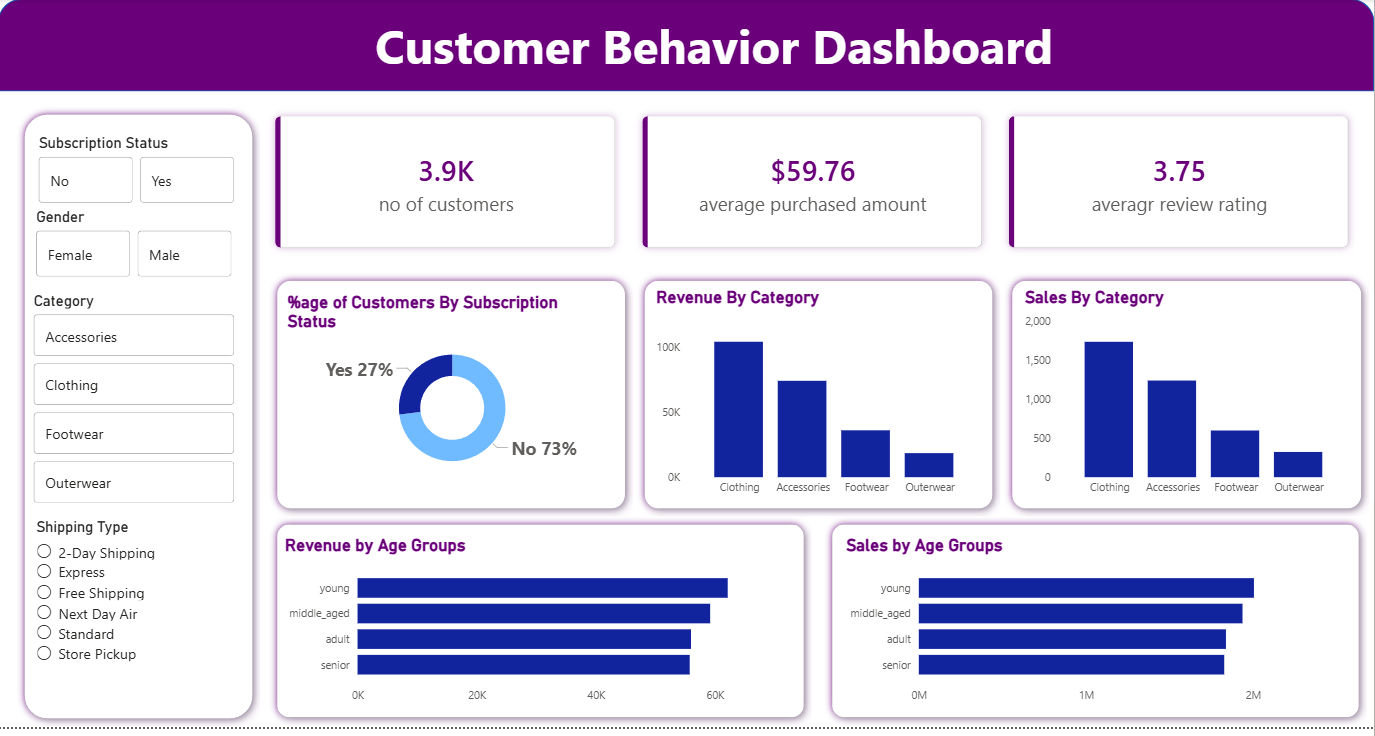

Layout of this report page (visuals, bound fields, positions):
{"tool":"powerbi","page":{"name":"Page 1","canvas":[1550,820],"ordinal":0},"visuals":[{"type":"cardVisual","fields":{"Data":["customer_behavior customer.no of customers","customer_behavior customer.average purchased amount","customer_behavior customer.averagr review rating"]},"box":[284.1,104.5,1265.9,204.2],"z":0},{"type":"shape","box":[0,0,1550.3,104.2],"z":1000},{"type":"textbox","box":[63.4,11.3,1486.9,109.8],"z":2000},{"type":"shape","box":[305.6,308.6,409.7,274.6],"z":3000},{"type":"donutChart","title":"%age of Customers By Subscription Status","fields":{"Category":["customer_behavior customer.subscription_status"],"Y":["CountNonNull(customer_behavior customer.customer_id)"]},"box":[321,325.5,381.6,216.8],"z":4000},{"type":"shape","box":[1133.5,308.6,411.2,274.6],"z":5000},{"type":"shape","box":[719.5,308.6,409.7,274.6],"z":6000},{"type":"clusteredColumnChart","title":"Revenue By Category","fields":{"Y":["Sum(customer_behavior customer.purchased_amount)"],"Category":["customer_behavior customer.category"]},"box":[736.4,325.5,376,243.6],"z":7000},{"type":"clusteredColumnChart","title":"Sales By Category","fields":{"Y":["CountNonNull(customer_behavior customer.customer_id)"],"Category":["customer_behavior customer.category"]},"box":[1151.8,325.5,376,243.6],"z":8000},{"type":"shape","box":[21.1,121.1,274.6,698.4],"z":9000},{"type":"advancedSlicerVisual","title":"Gender","fields":{"Values":["customer_behavior customer.gender"]},"box":[38,235.6,230.9,83.1],"z":10000},{"type":"advancedSlicerVisual","title":"Category","fields":{"Values":["customer_behavior customer.category"]},"box":[35.2,329.5,236.6,245],"z":11000},{"type":"listSlicer","title":"Shipping Type","fields":{"Values":["customer_behavior customer.shipping_type"]},"box":[38,584.3,212.6,218.3],"z":12000},{"type":"shape","box":[305.6,582.9,611.1,235.1],"z":13000},{"type":"clusteredBarChart","title":"Revenue by Age Groups","fields":{"Y":["Sum(customer_behavior customer.purchased_amount)"],"Category":["customer_behavior customer.age_group"]},"box":[318.2,604.1,571.7,198.5],"z":14000},{"type":"shape","box":[930.7,582.9,611.1,235.1],"z":15000},{"type":"clusteredBarChart","title":"Sales by Age Groups","fields":{"Y":["Sum(customer_behavior customer.customer_id)"],"Category":["customer_behavior customer.age_group"]},"box":[950.4,604.1,571.7,198.5],"z":16000},{"type":"advancedSlicerVisual","title":"Subscription Status","fields":{"Values":["customer_behavior customer.subscription_status"]},"box":[40.8,152.1,230.9,83.1],"z":17000}]}

Visuals, with their boxes in screenshot pixels (x1, y1, x2, y2), scaled from the page's 1550x820 canvas onto the 1375x736 screenshot:
cardVisual - customer_behavior customer.no of customers x customer_behavior customer.average purchased amount: box(252, 94, 1374, 277)
shape: box(0, 0, 1374, 94)
textbox: box(56, 10, 1374, 109)
shape: box(271, 277, 635, 523)
"%age of Customers By Subscription Status" donutChart: box(285, 292, 623, 487)
shape: box(1006, 277, 1370, 523)
shape: box(638, 277, 1002, 523)
"Revenue By Category" clusteredColumnChart: box(653, 292, 987, 511)
"Sales By Category" clusteredColumnChart: box(1022, 292, 1355, 511)
shape: box(19, 109, 262, 735)
"Gender" advancedSlicerVisual: box(34, 211, 239, 286)
"Category" advancedSlicerVisual: box(31, 296, 241, 516)
"Shipping Type" listSlicer: box(34, 524, 222, 720)
shape: box(271, 523, 813, 734)
"Revenue by Age Groups" clusteredBarChart: box(282, 542, 789, 720)
shape: box(826, 523, 1368, 734)
"Sales by Age Groups" clusteredBarChart: box(843, 542, 1350, 720)
"Subscription Status" advancedSlicerVisual: box(36, 137, 241, 211)
